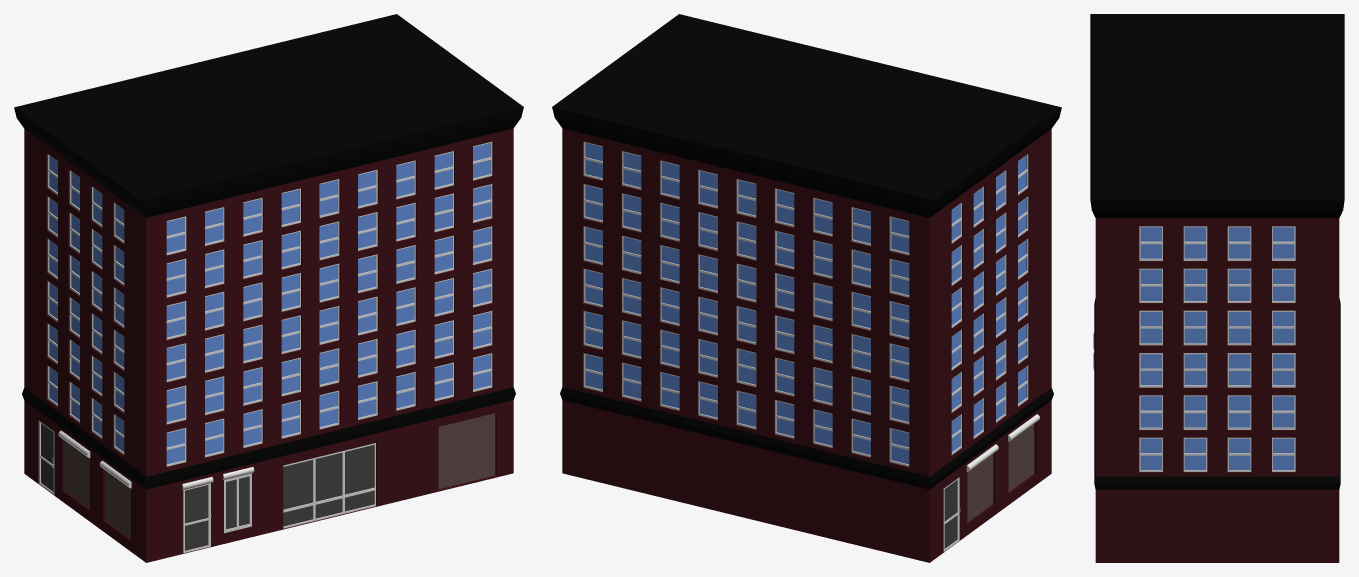
Rendered from building11-1.fbx.
The picture shows the model from 3 angles, left to right: view 1: azimuth 30°, elevation 25°; view 2: azimuth 150°, elevation 25°; view 3: azimuth 270°, elevation 25°; orthographic projection.
Visible parts, largest first — view 1: building2.001; view 2: building2.001; view 3: building2.001.
Boxes of the visible parts, x1,y1,x2,y2 form: building2.001: (14,14,523,562); building2.001: (552,14,1061,562); building2.001: (1090,14,1344,562).
Size of the model in its own units: 4127 by 3773 by 2373.
